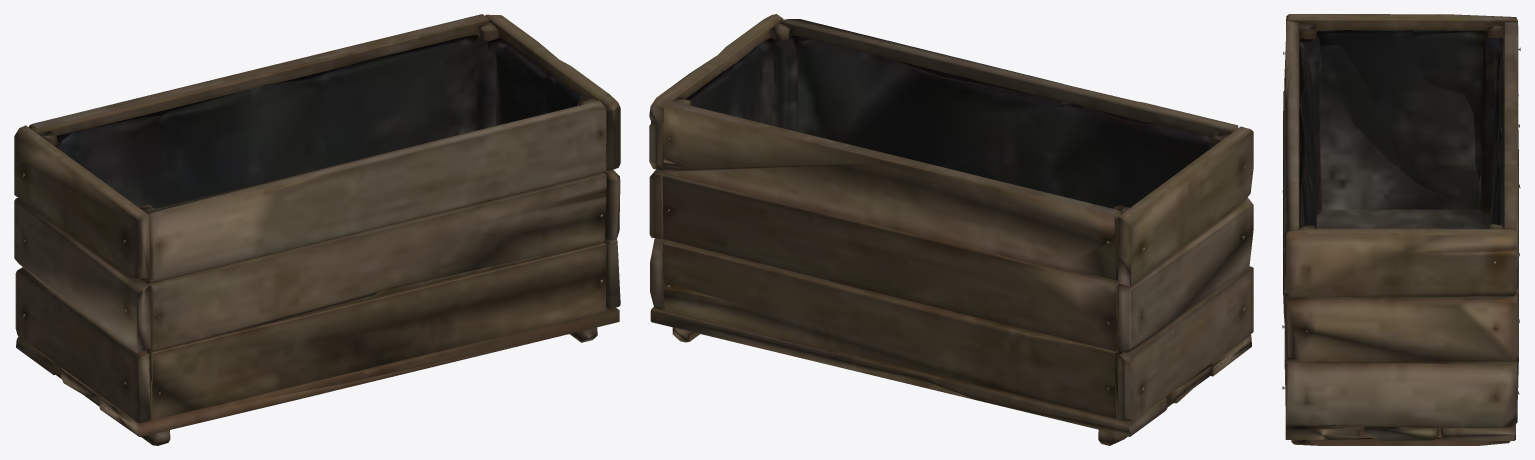
Rendered from planter_box_01.glb.
3 renders of one model, left to right at view 1: azimuth 30°, elevation 25°; view 2: azimuth 150°, elevation 25°; view 3: azimuth 270°, elevation 25°, orthographic. The views are drawn at different scales.
Parts seen in each view (by area): view 1: planter_box_01, planter_box_01_lo; view 2: planter_box_01, planter_box_01_lo; view 3: planter_box_01, planter_box_01_lo.
Boxes of the visible parts, x1,y1,x2,y2 form: planter_box_01: [14, 14, 620, 445]; planter_box_01_lo: [32, 14, 615, 444]; planter_box_01: [649, 14, 1253, 445]; planter_box_01_lo: [651, 22, 1251, 400]; planter_box_01: [1282, 14, 1520, 445]; planter_box_01_lo: [1283, 21, 1516, 435].
Bounding box in the file's own units: 0.9126 × 0.4249 × 0.4135.
Materials: 1 (1 with a texture image).
